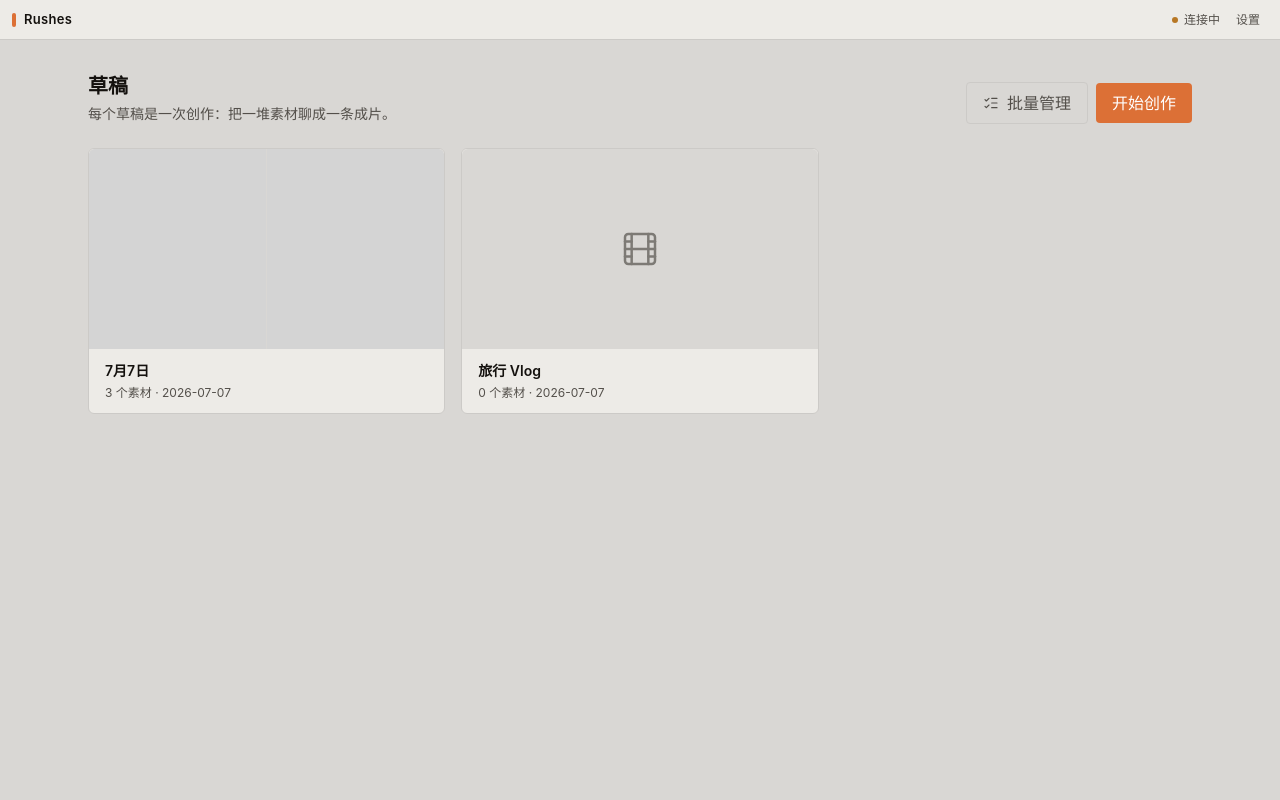
DraftsHomePage › 批量管理可选择草稿、二次确认并一次删除
The image size is (1280, 800).
expect the text "7月7日" is shown: met, box [105,362,149,379]
Click the button "批量管理" at (1027, 103), box [966,82,1088,124]
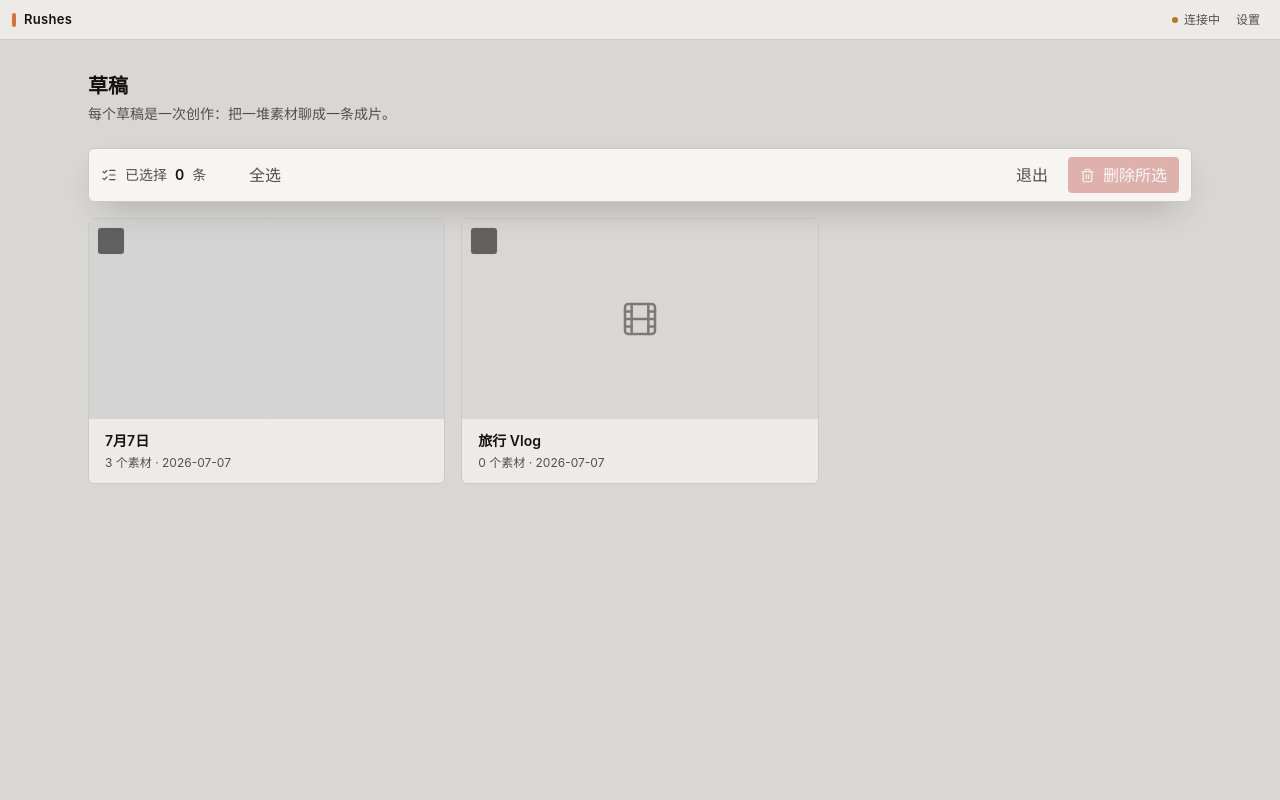
expect the button "删除所选" is disabled: met, box [1068,157,1179,193]
Click the button with aria-label "选择草稿 7月7日" at (267, 351), box [89,219,444,483]
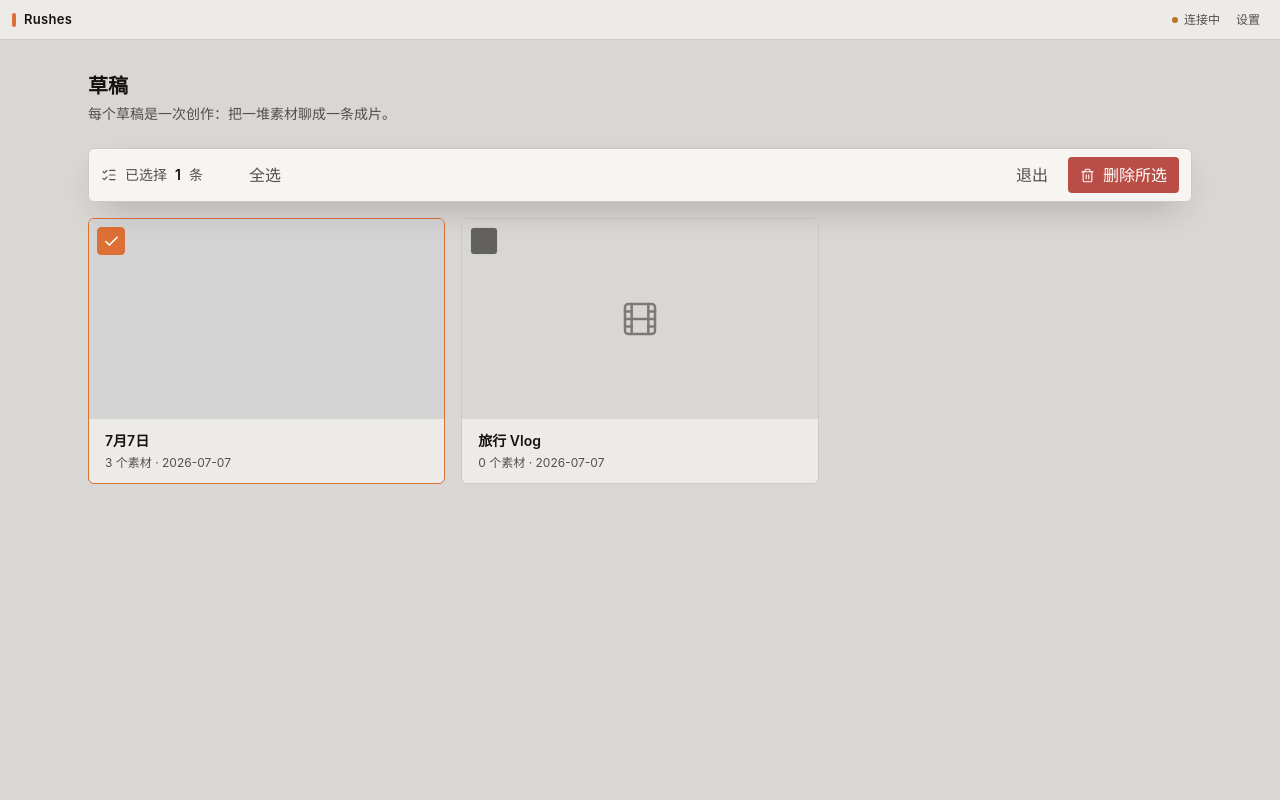
Click the button with aria-label "选择草稿 旅行 Vlog" at (640, 351), box [462,219,818,483]
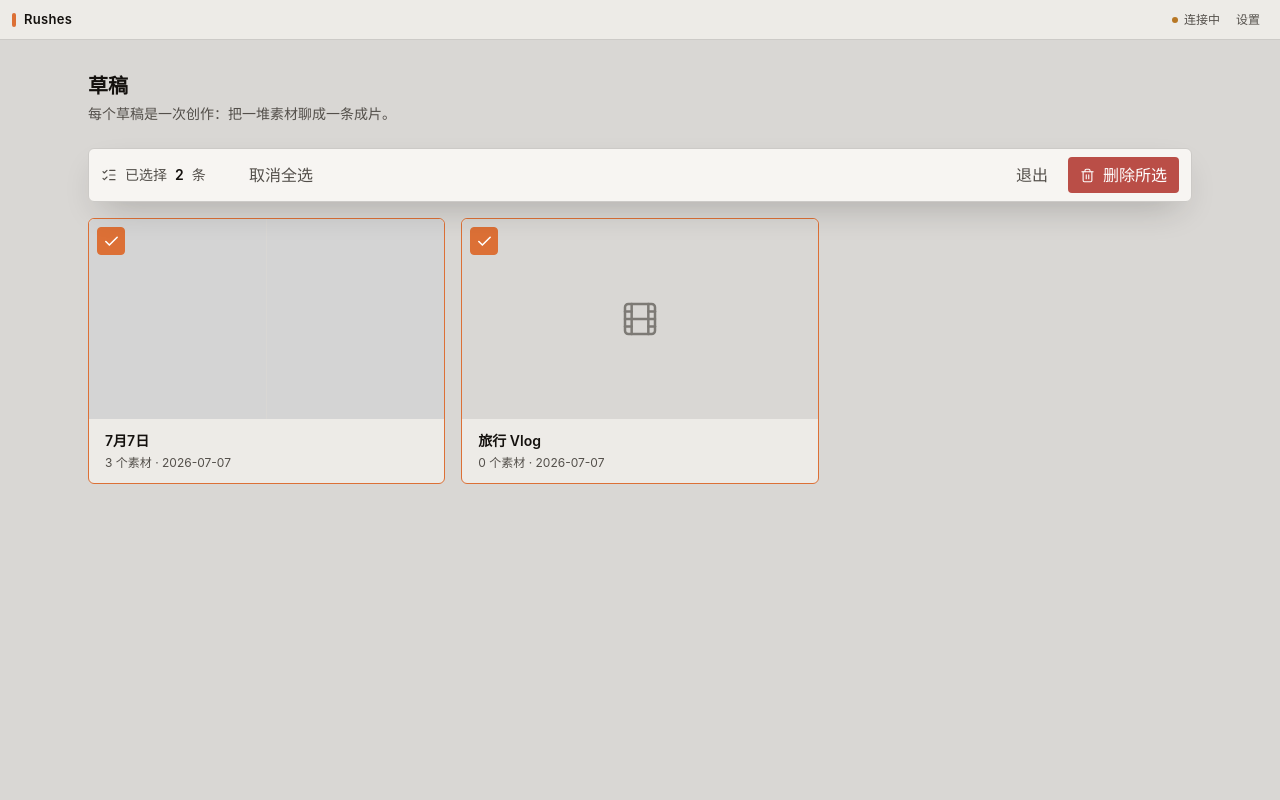
expect the text "2" is shown: met, box [175,165,184,185]
Click the button "删除所选" at (1124, 175), box [1068,157,1179,193]
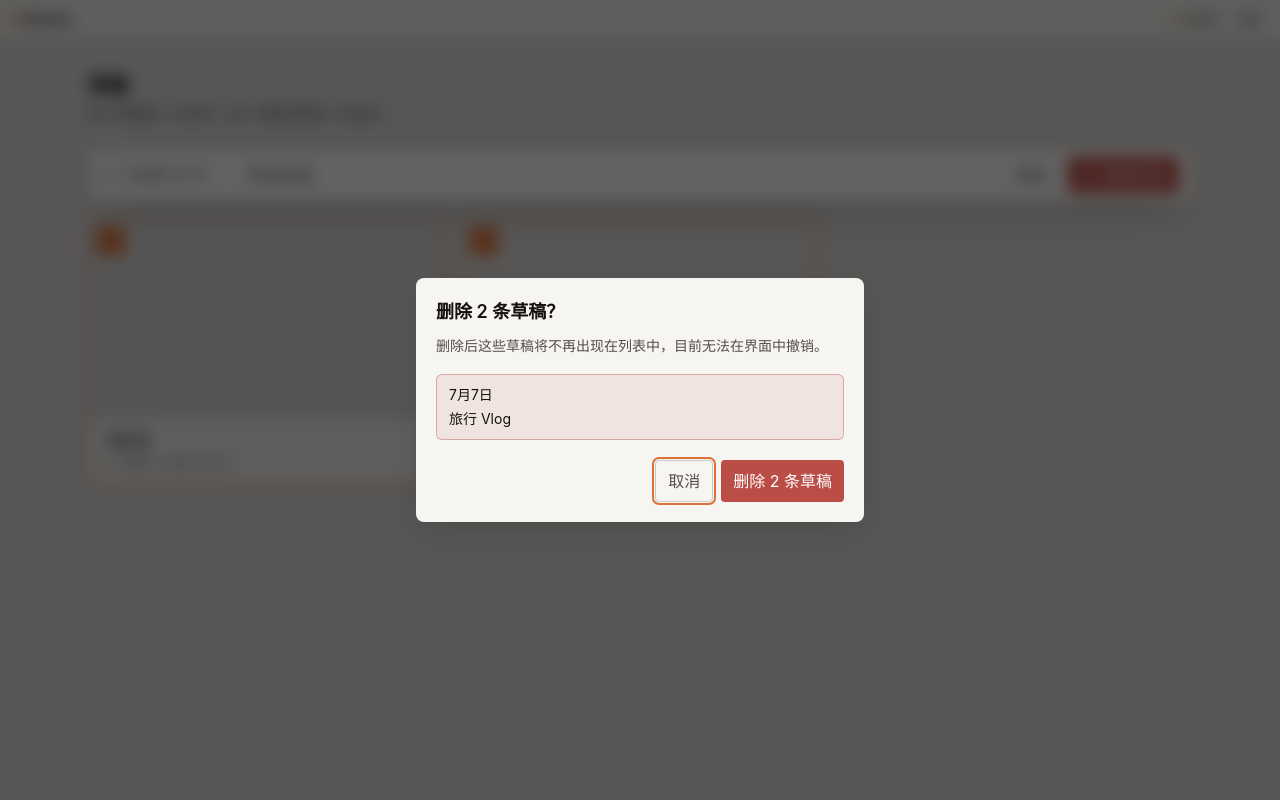
expect the dialog "删除 2 条草稿？" is shown: met, box [416,278,864,522]
expect the list item "7月7日" is shown: met, box [449,386,493,403]
expect the list item "旅行 Vlog" is shown: met, box [449,410,511,427]
Click the button "删除 2 条草稿" at (783, 481), box [721,460,844,502]
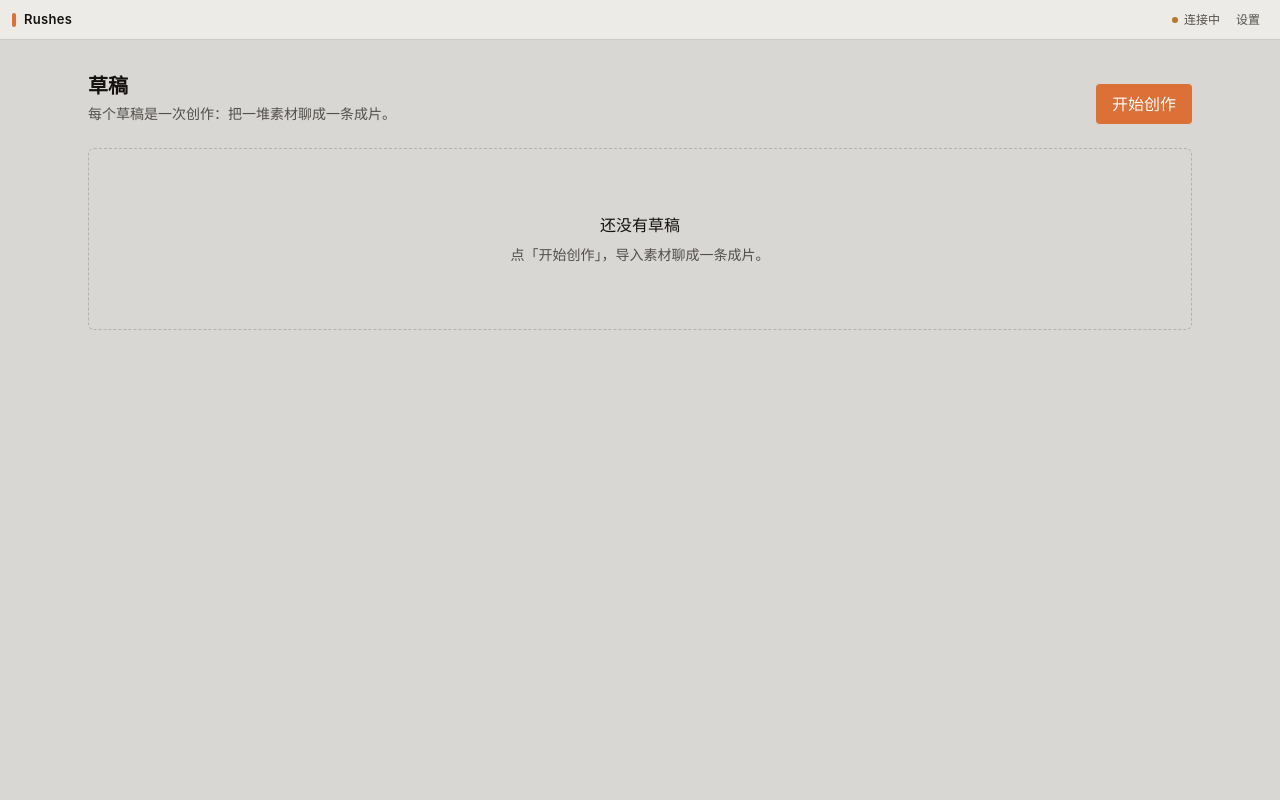
expect the text "还没有草稿" is shown: met, box [600,213,680,237]
expect the heading "删除 2 条草稿？" is gone: met
